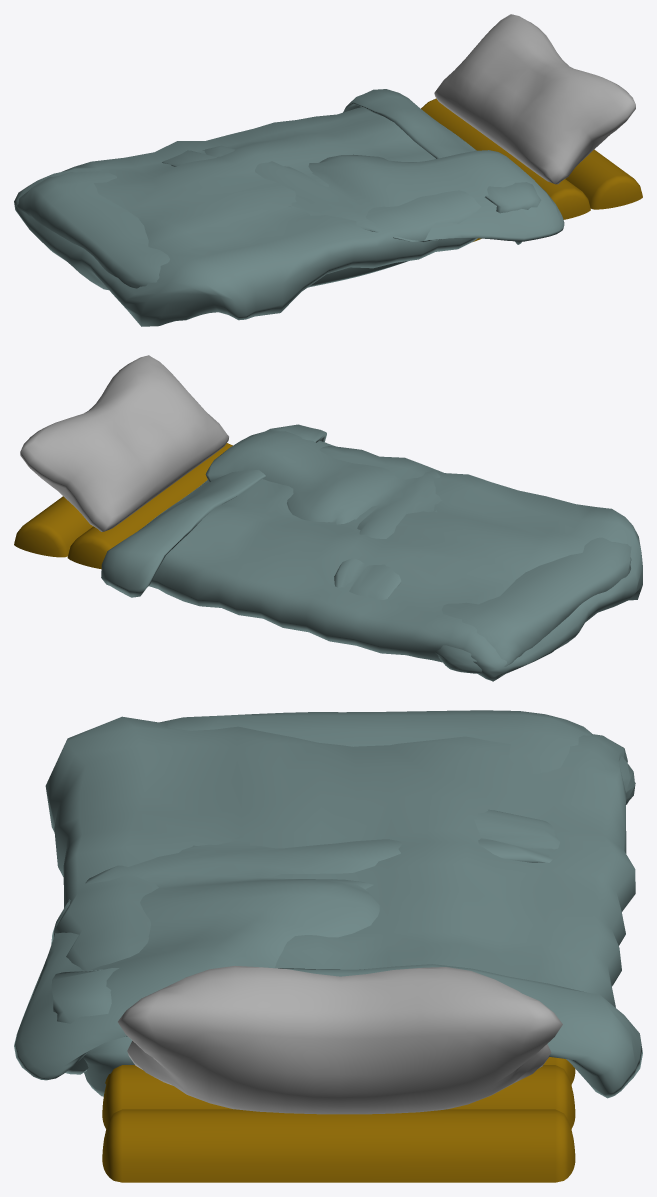
Rendered from Bed.fbx.
3 renders of one model, top to bottom at view 1: azimuth 30°, elevation 25°; view 2: azimuth 150°, elevation 25°; view 3: azimuth 270°, elevation 25°, orthographic. The views are drawn at different scales.
Parts seen in each view (by area): view 1: Madesheet, UnmadeSheet, BigPillow, BedRolls; view 2: Madesheet, UnmadeSheet, BigPillow, BedRolls; view 3: Madesheet, BigPillow, UnmadeSheet, BedRolls.
Part boxes in pixels (bbox=[...]): Madesheet: bbox=[14, 89, 541, 326]; UnmadeSheet: bbox=[16, 145, 564, 288]; BigPillow: bbox=[434, 14, 635, 184]; BedRolls: bbox=[421, 98, 642, 241]; Madesheet: bbox=[101, 424, 642, 681]; UnmadeSheet: bbox=[205, 431, 631, 673]; BigPillow: bbox=[20, 355, 228, 531]; BedRolls: bbox=[14, 443, 232, 569]; Madesheet: bbox=[45, 716, 642, 1098]; BigPillow: bbox=[118, 965, 562, 1114]; UnmadeSheet: bbox=[14, 710, 635, 1096]; BedRolls: bbox=[102, 1057, 575, 1182].
Bounding box in the file's own units: 9.63 × 2.56 × 5.99.
